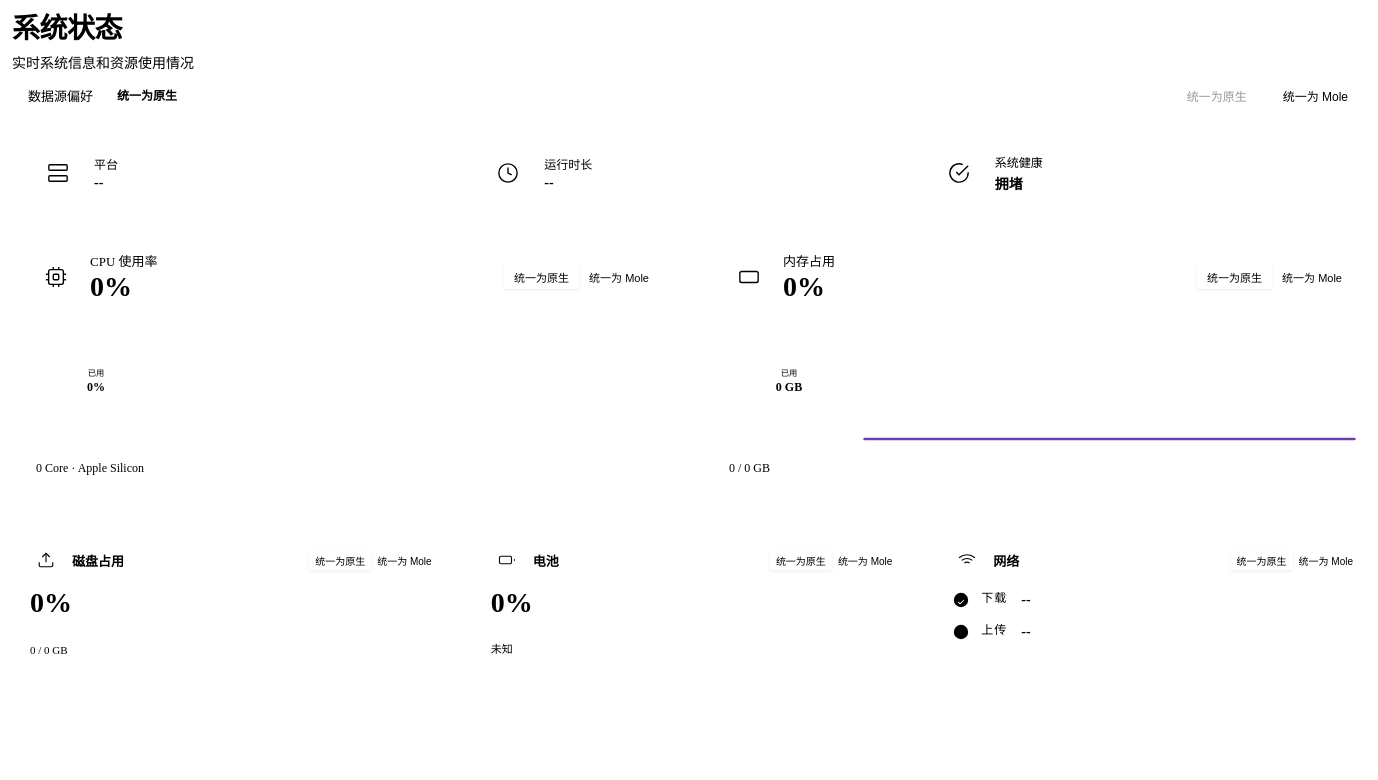
Scenario: StatusView 组件 › 深层交互测试 › applyStatusData › 双源 + cpu=mole 时 CPU 取 data.mole
Click the button with class "segmented-btn" in the row of "CPU 使用率": x=619, y=277 [579,265,659,289]
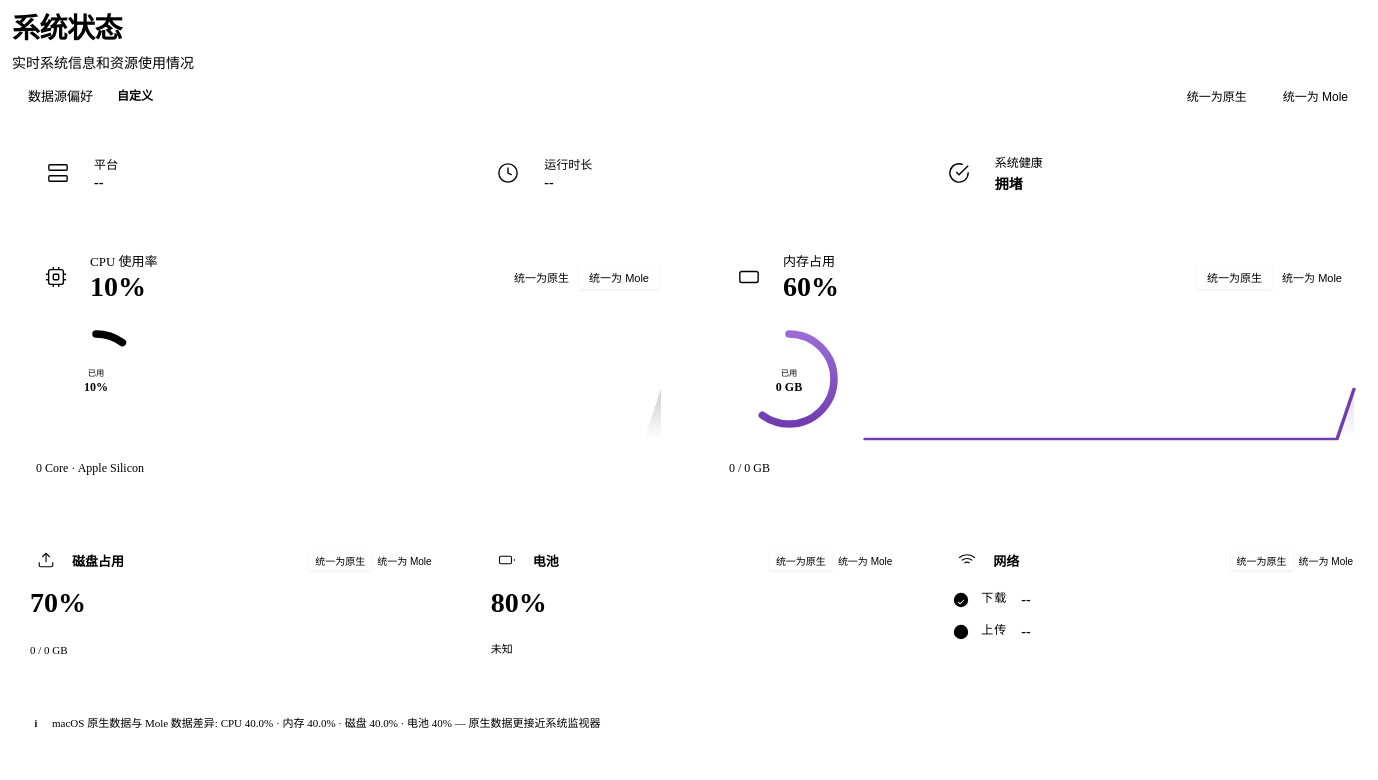
Expected: the text with class "metric-sub" reads "10%", [90,271,146,302]
